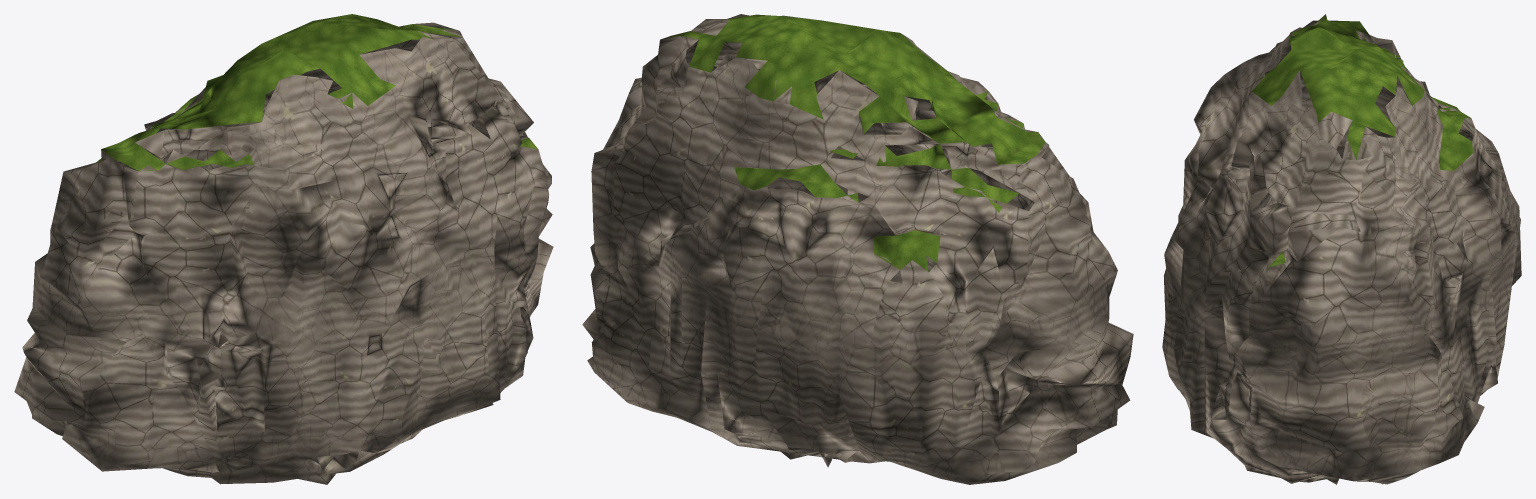
Rendered from rock_cliff.glb.
3 renders of one model, left to right at view 1: azimuth 30°, elevation 25°; view 2: azimuth 150°, elevation 25°; view 3: azimuth 270°, elevation 25°, orthographic. The views are drawn at different scales.
Parts seen in each view (by area): view 1: rock_cliff_Rock; view 2: rock_cliff_Rock; view 3: rock_cliff_Rock.
Part boxes in pixels (bbox=[...]): rock_cliff_Rock: bbox=[14, 14, 553, 484]; rock_cliff_Rock: bbox=[582, 14, 1133, 484]; rock_cliff_Rock: bbox=[1162, 14, 1521, 484].
Size of the model in its own units: 5.08 by 3.8 by 3.17.
Materials: 2 (2 with a texture image).
